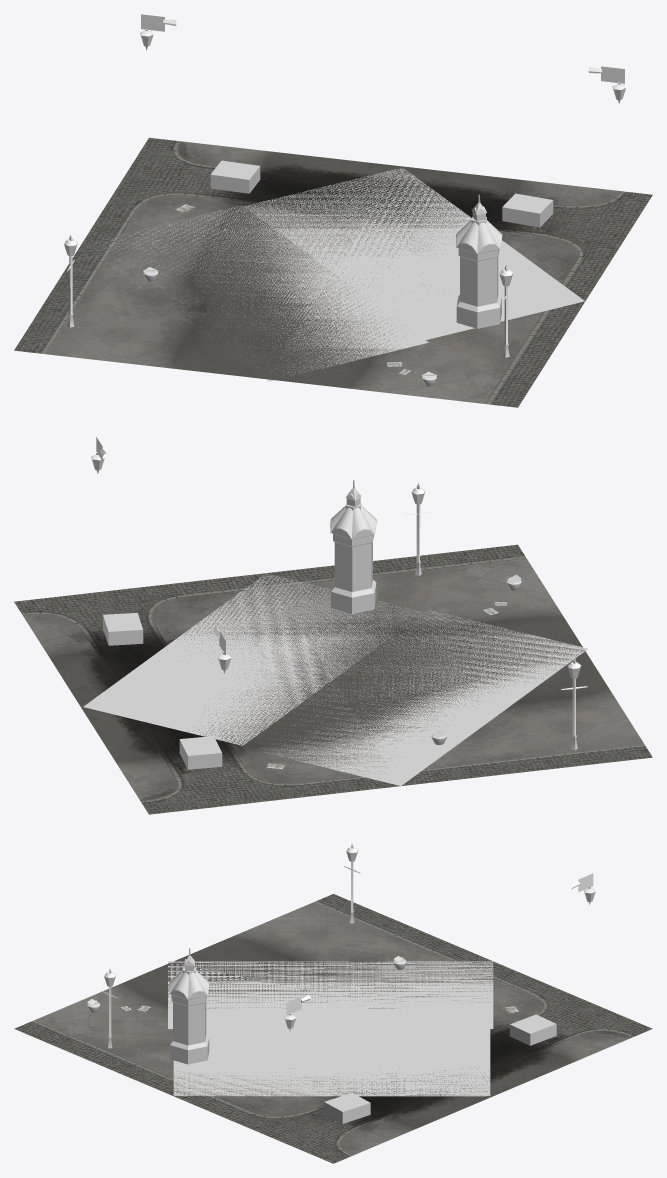
The model's file is diagonalx2.gltf.
3 views of the same model, one above another, from view 1: azimuth 30°, elevation 25°; view 2: azimuth 150°, elevation 25°; view 3: azimuth 270°, elevation 25° (orthographic). The views are drawn at different scales.
Parts seen in each view (by area): view 1: decalx2, BuildBlocker.001, BuildBlocker, file_advertiser, fc_feedback_door_1, fc_feedback_door_0, prop_wall_lamp_0, prop_wall_lamp_1; view 2: decalx2, BuildBlocker.001, BuildBlocker, file_advertiser, fc_feedback_door_0, fc_feedback_door_1, prop_lightpost_1, prop_lightpost_0; view 3: decalx2, BuildBlocker.001, BuildBlocker, file_advertiser, fc_feedback_door_0, fc_feedback_door_1.
Part boxes in pixels (x1,y1,x2,y2): decalx2: (14,137,652,407); BuildBlocker.001: (244,168,584,340); BuildBlocker: (90,206,428,381); file_advertiser: (456,194,502,328); fc_feedback_door_1: (502,193,553,227); fc_feedback_door_0: (210,160,260,193); prop_wall_lamp_0: (588,66,625,103); prop_wall_lamp_1: (140,14,176,50); decalx2: (14,544,652,814); BuildBlocker.001: (83,573,424,745); BuildBlocker: (245,610,588,785); file_advertiser: (330,480,377,613); fc_feedback_door_0: (179,736,222,769); fc_feedback_door_1: (103,613,143,645); prop_lightpost_1: (405,483,431,575); prop_lightpost_0: (561,658,587,750); decalx2: (14,894,652,1163); BuildBlocker.001: (173,1028,490,1096); BuildBlocker: (168,961,493,1028); file_advertiser: (169,948,209,1064); fc_feedback_door_0: (510,1014,556,1045); fc_feedback_door_1: (324,1093,370,1123).
Size of what is drawn, in the model's own units: 4 by 1.03 by 4.
4 materials, 1 textured.
